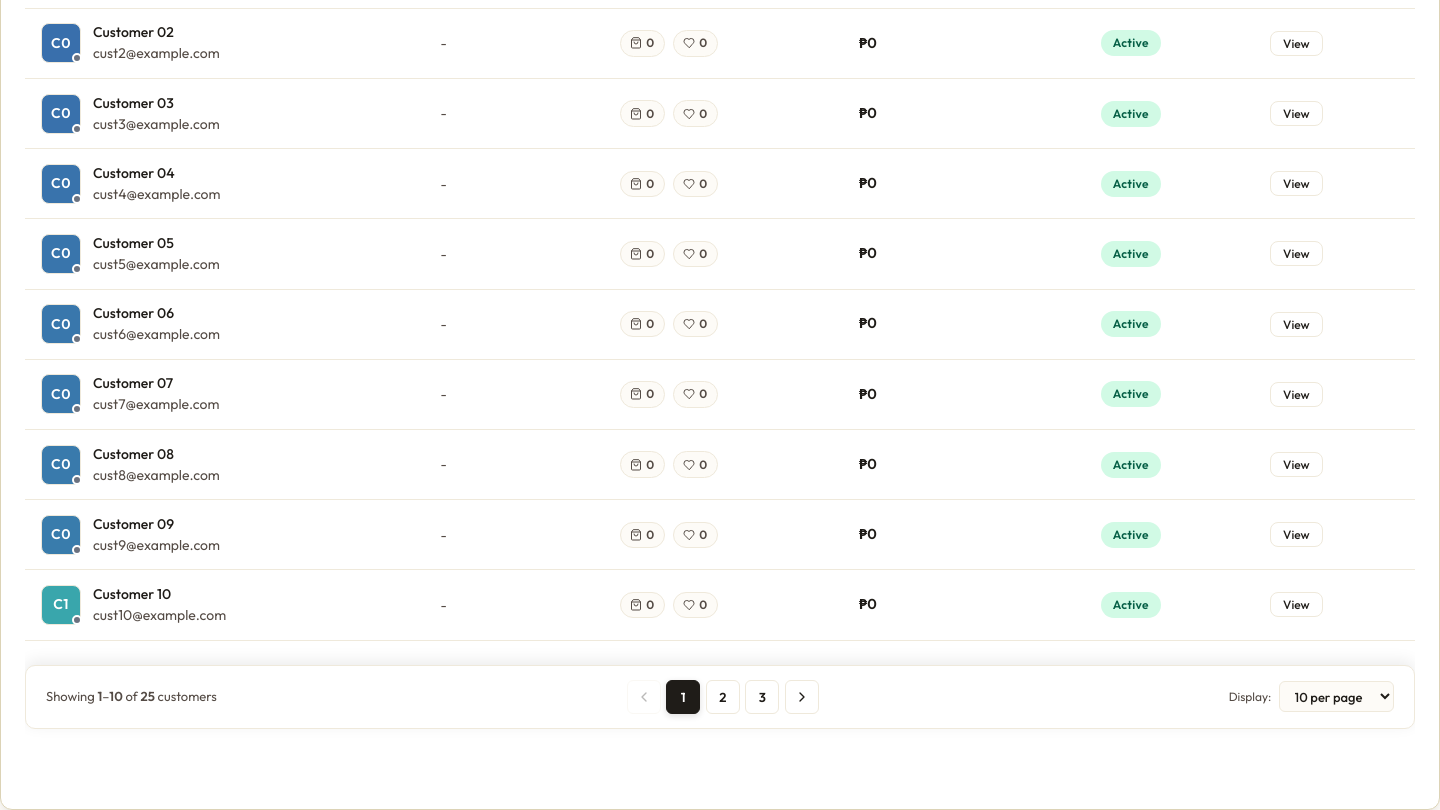
Test: Customers catalog-style pagination › multi-page pill and arrow navigation switches pages correctly
(page scrolled)
Expected: the element showing "Showing 1–10 of 25 customers" is shown, [46, 687, 217, 706]
Expected: the text "Customer 10" is shown, [93, 585, 171, 603]
Click pill 2
Click the button "2".
click(723, 696)  # box [706, 680, 740, 714]
(page scrolled)
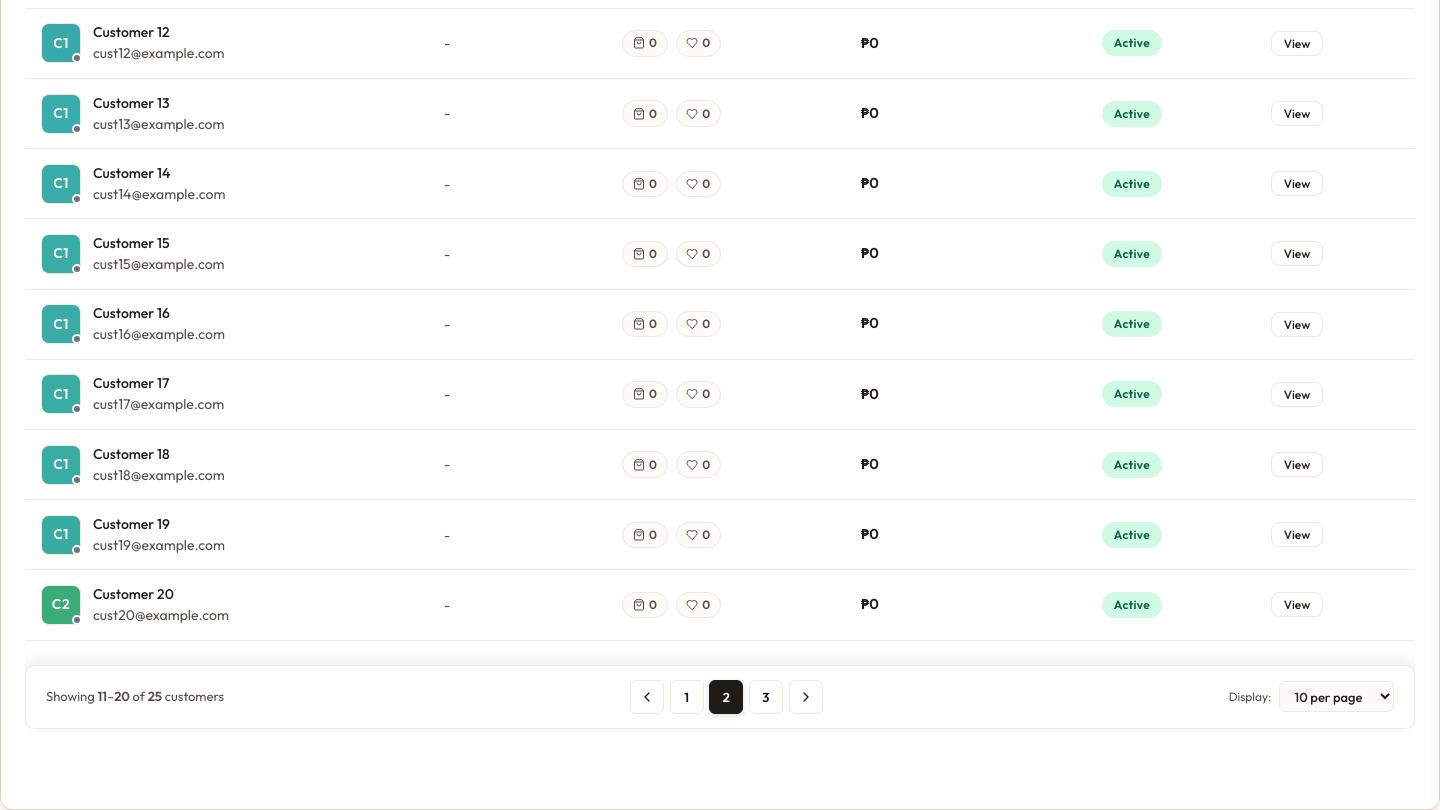
Expected: the element showing "Showing 11–20 of 25 customers" is shown, [46, 687, 224, 706]
Click Next page arrow
Click the button named "Next page".
click(806, 696)  # box [788, 680, 822, 714]
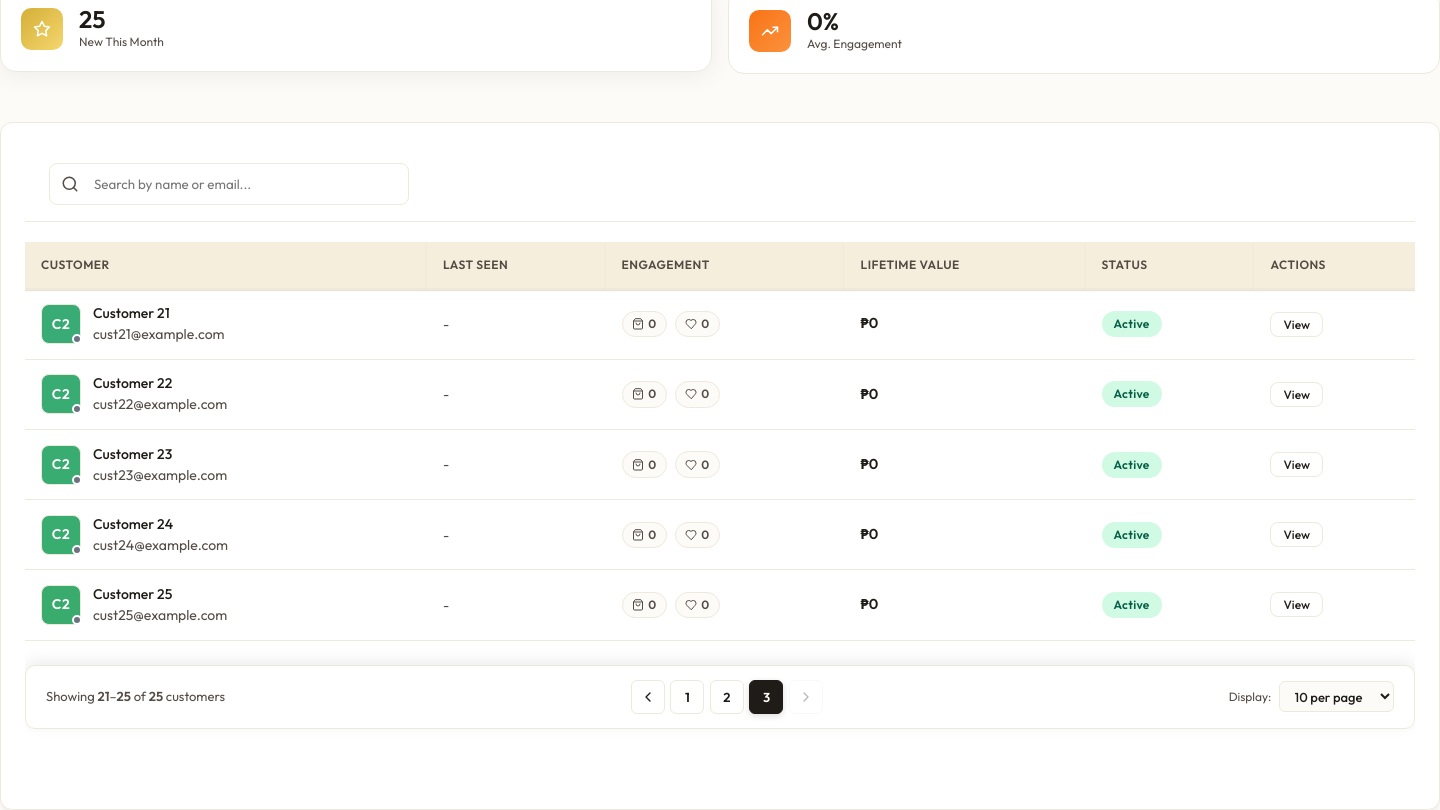
Expected: the element showing "Showing 21–25 of 25 customers" is shown, [46, 687, 225, 706]
Expected: the text "Customer 25" is shown, [93, 585, 172, 603]
Click Previous page arrow
Click the button named "Previous page".
click(648, 697)  # box [631, 680, 665, 714]
(page scrolled)
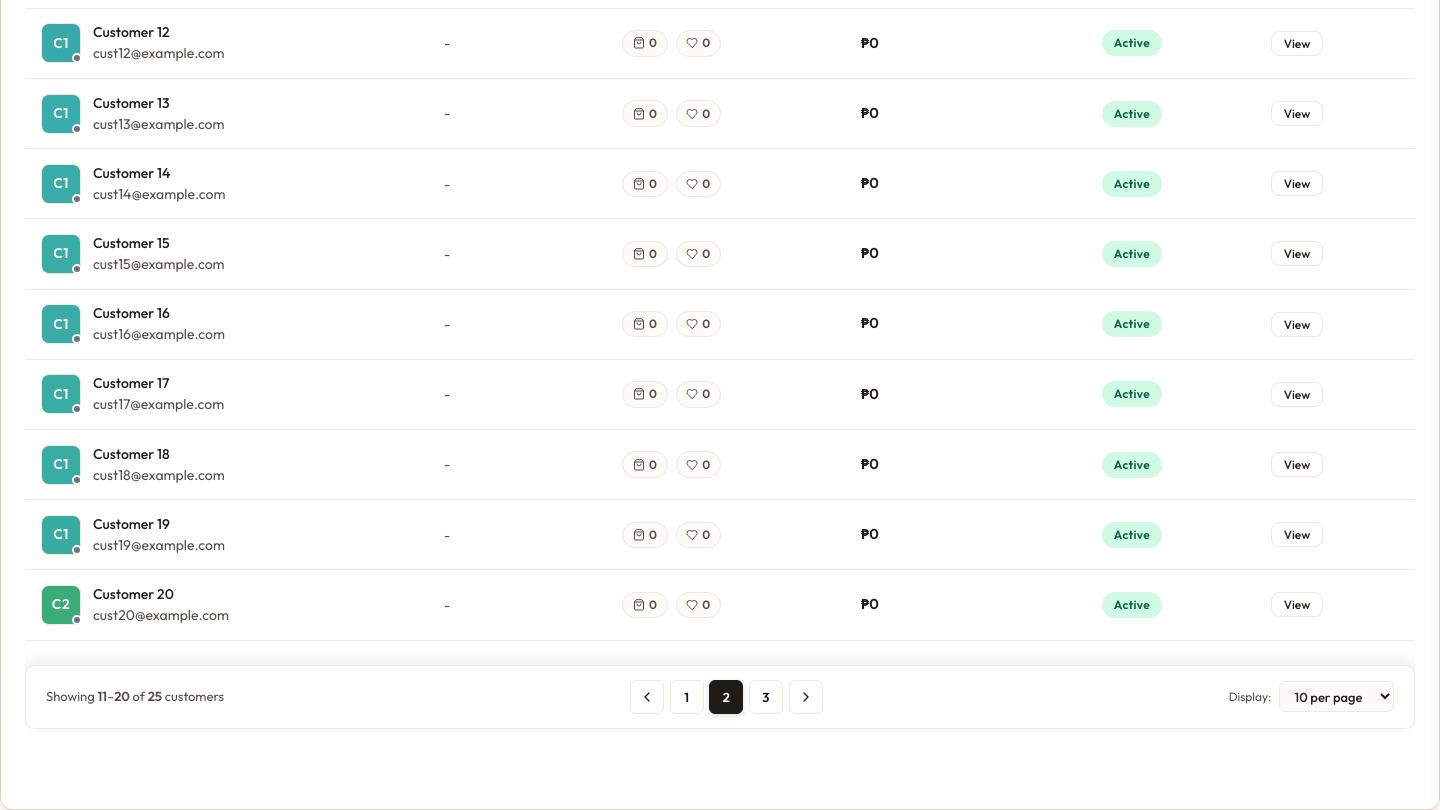
Expected: the element showing "Showing 11–20 of 25 customers" is shown, [46, 687, 224, 706]
